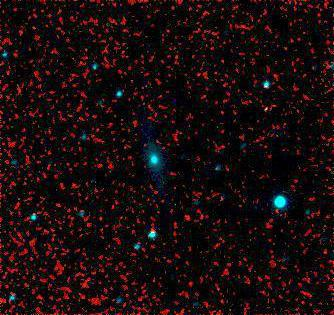star: (254, 95, 284, 125)
